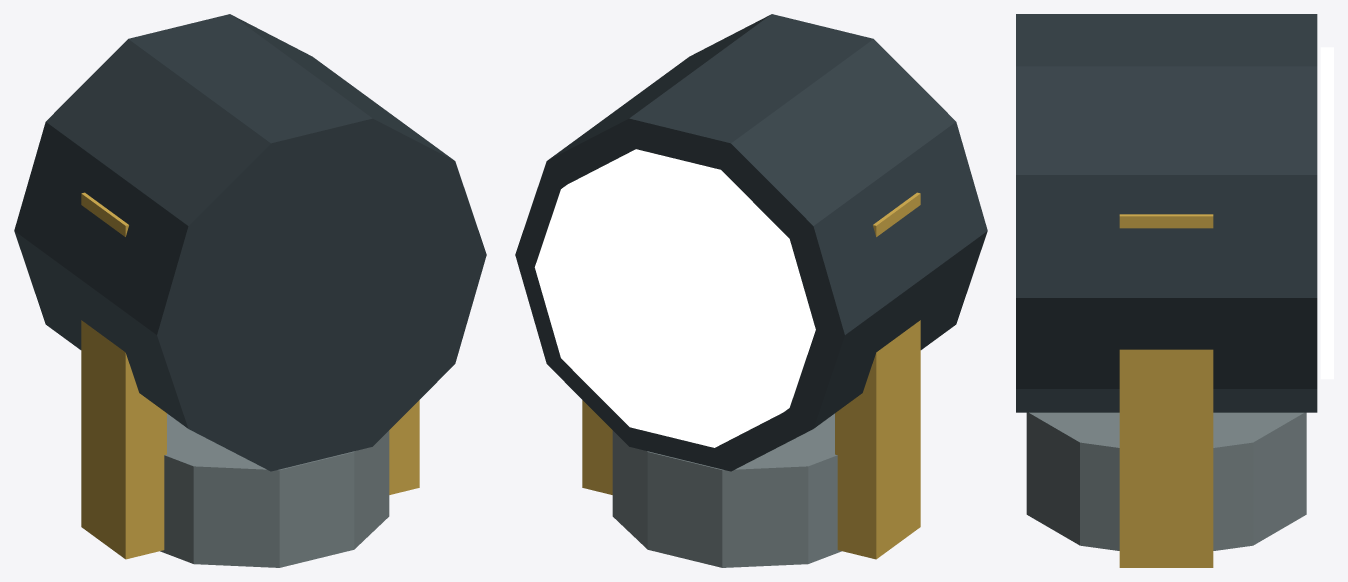
Rendered from DeadRail_Searchlight.fbx.
3 views of the same model, side by side, from view 1: azimuth 30°, elevation 25°; view 2: azimuth 150°, elevation 25°; view 3: azimuth 270°, elevation 25° (orthographic). The views are drawn at different scales.
Visible parts, largest first — view 1: Searchlight_Body.002, Searchlight_Base.002, Searchlight_Fork.004, Searchlight_Fork.005; view 2: Searchlight_Body.002, Searchlight_Lens.002, Searchlight_Base.002, Searchlight_Fork.004, Searchlight_Fork.005; view 3: Searchlight_Body.002, Searchlight_Base.002, Searchlight_Fork.005, Searchlight_Lens.002.
Boxes of the visible parts, x1,y1,x2,y2 form: Searchlight_Body.002: (14, 14, 486, 471); Searchlight_Base.002: (160, 413, 389, 567); Searchlight_Fork.004: (81, 192, 166, 559); Searchlight_Fork.005: (389, 400, 419, 494); Searchlight_Body.002: (515, 14, 987, 471); Searchlight_Lens.002: (534, 149, 815, 447); Searchlight_Base.002: (612, 413, 841, 567); Searchlight_Fork.004: (835, 192, 920, 559); Searchlight_Fork.005: (582, 400, 612, 494); Searchlight_Body.002: (1016, 14, 1317, 412); Searchlight_Base.002: (1026, 412, 1306, 550); Searchlight_Fork.005: (1119, 214, 1213, 567); Searchlight_Lens.002: (1320, 47, 1333, 379).
Size of the model in its own units: 0.6 by 0.7503 by 0.475.
